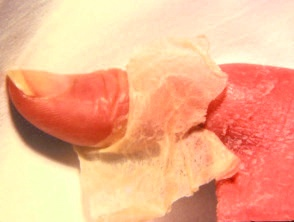SJS-TEN: (67, 27, 294, 222)
